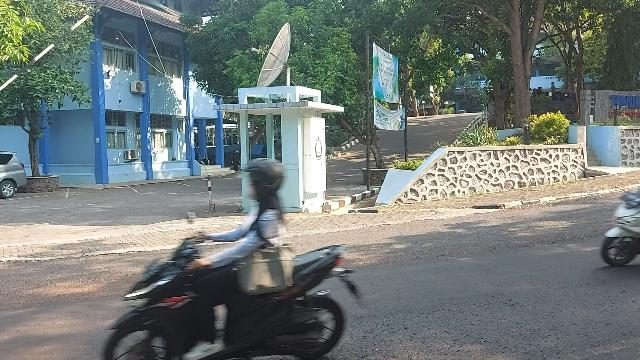helm: (242, 159, 284, 200)
motor: (106, 213, 365, 360)
